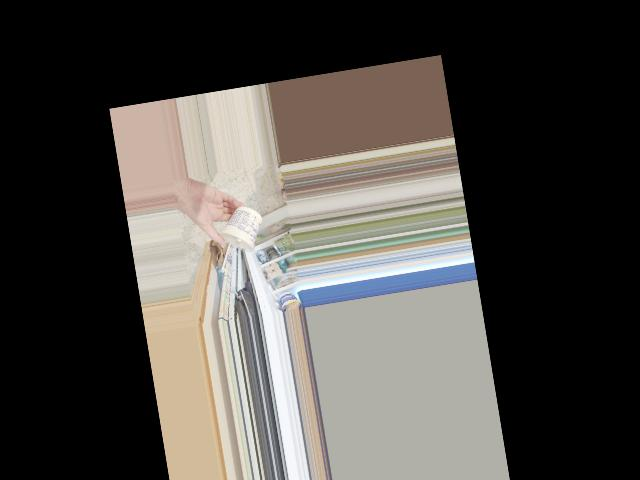cotage: (215, 202, 261, 258)
